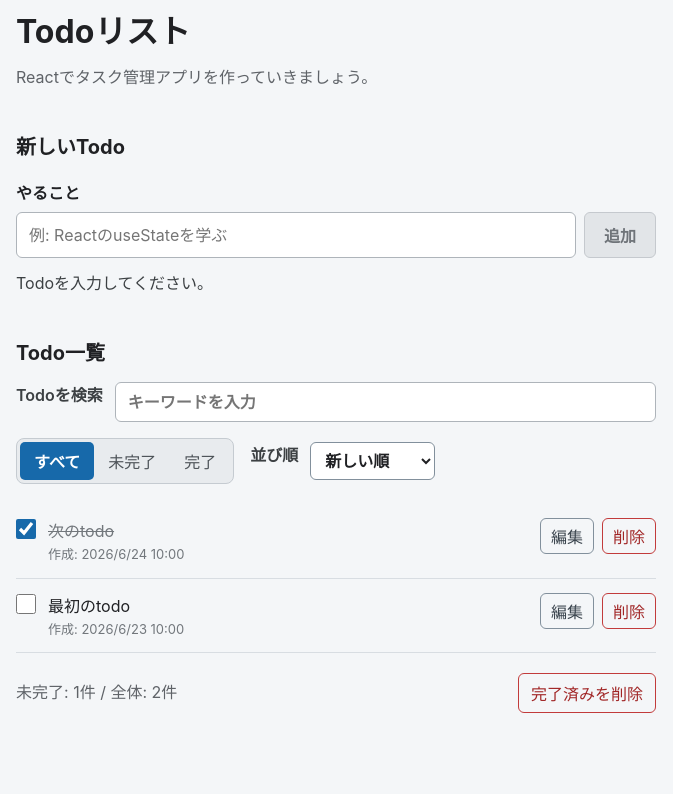
Test case: Home › todoを編集したら成功メッセージを表示する
Expected: the list item "最初のtodo 作成: 2026/6/23 10:00 編集 削除" is shown, [16,579,656,653]
Click the button "編集" in the row of "最初のtodo": (567, 611) [540,593,594,629]
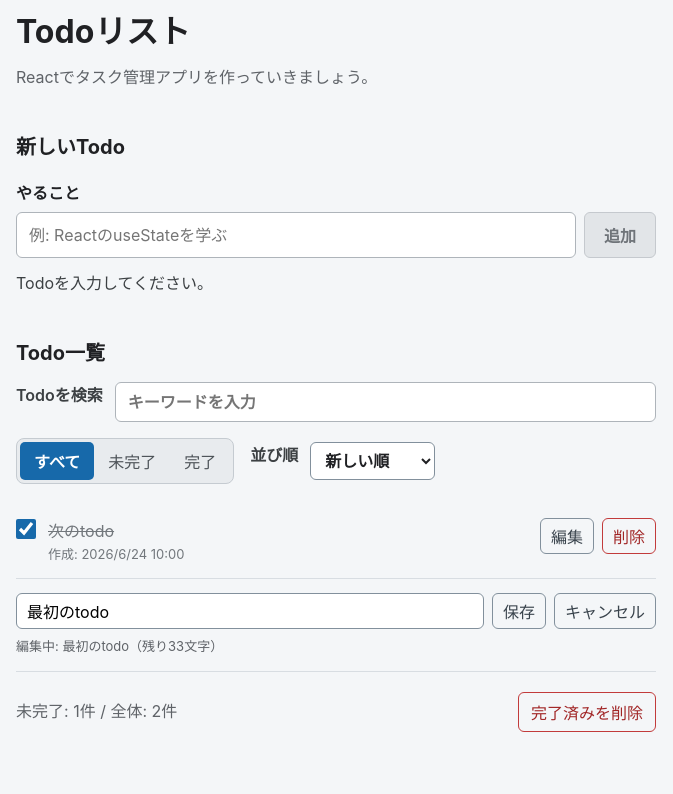
Replace the text in the field named "最初のtodoを編集" with "テストを書く": (250, 611) [16,593,484,629]
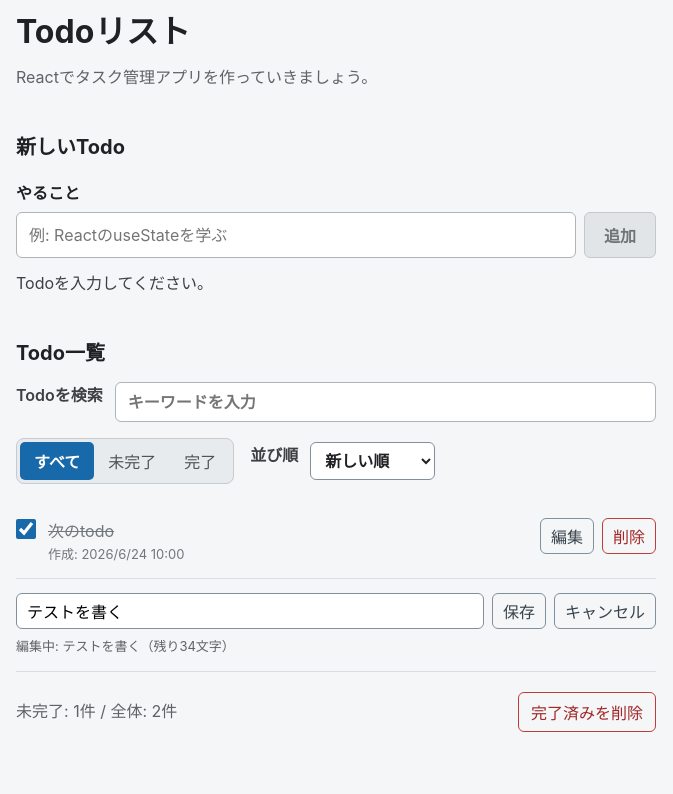
Click the button "保存": (519, 611) [492,593,546,629]
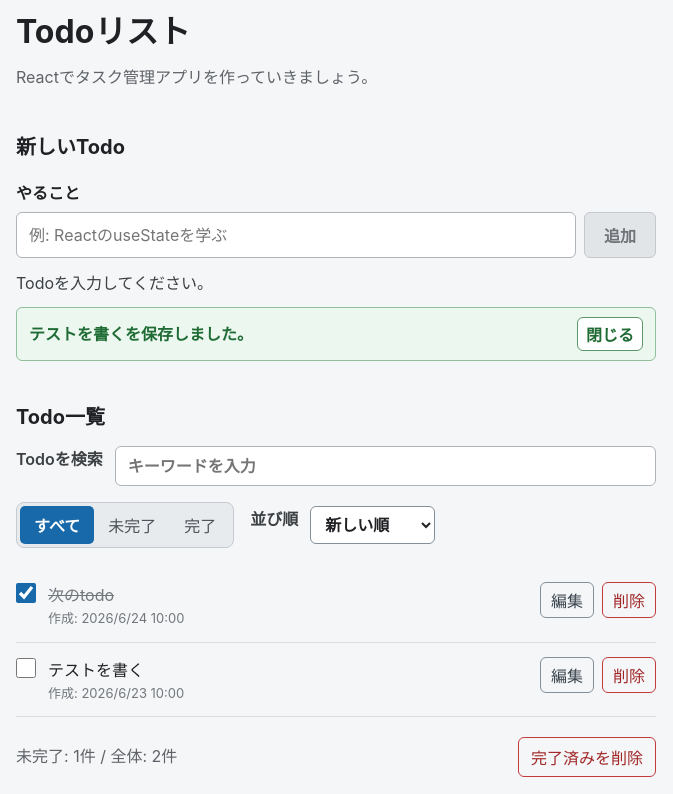
Expected: the message shows "テストを書くを保存しました。", [29,324,253,344]
